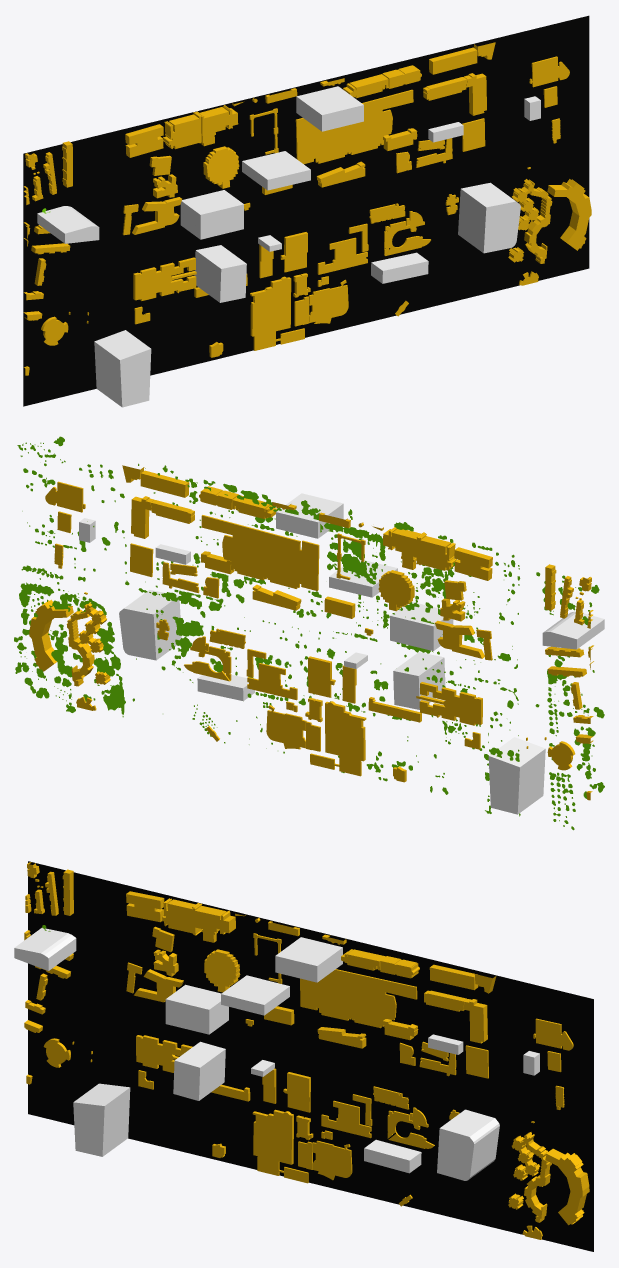
File: new_high_buildings_02.glb
The picture shows the model from 3 angles, top to bottom: view 1: azimuth 30°, elevation 25°; view 2: azimuth 150°, elevation 25°; view 3: azimuth 330°, elevation 25°; orthographic projection.
Parts seen in each view (by area): view 1: Layer 04, existing_building - Copy, new buildings; view 2: existing_building - Copy, treesurface, new buildings; view 3: Layer 04, existing_building - Copy, new buildings.
Part boxes in pixels (<box>): Layer 04: <box>23,15,589,406</box>; existing_building - Copy: <box>23,42,591,375</box>; new buildings: <box>37,86,540,407</box>; existing_building - Copy: <box>29,465,593,800</box>; treesurface: <box>14,436,604,830</box>; new buildings: <box>79,493,604,814</box>; Layer 04: <box>28,861,593,1251</box>; existing_building - Copy: <box>24,862,589,1239</box>; new buildings: <box>14,928,539,1180</box>.
Size of the model in its own units: 1035 by 458 by 84.18.
